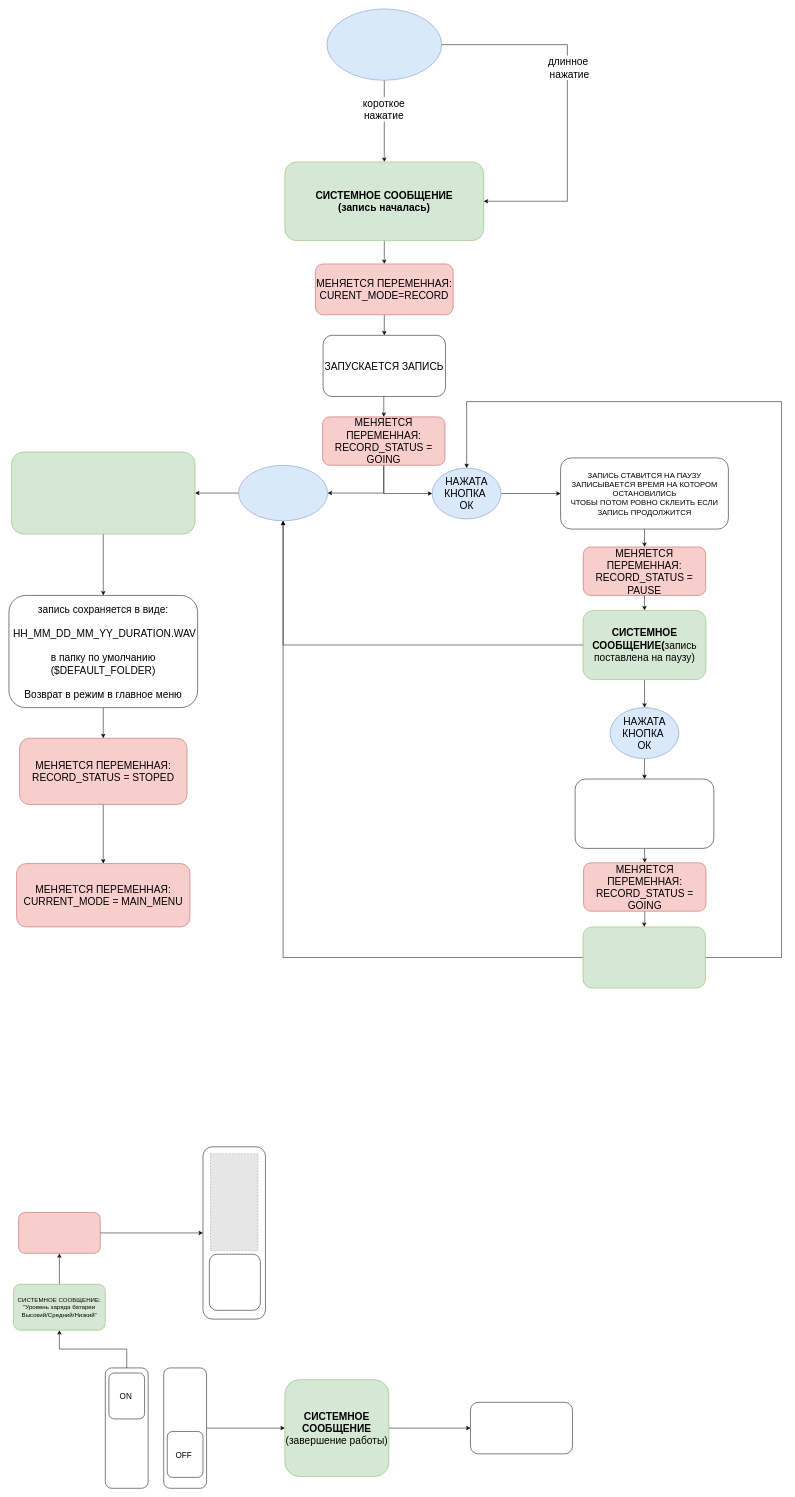
The diagram is 795 pixels wide and 1497 high, and some of its shapes have lost their labels. Grey dashed boxes stand in for pictures. Here are the shapes that lost their labels. From the top down, the centre of each, then its label:
point (384, 44): Rec
point (103, 493): СИСТЕМНОЕ СООБЩЕНИЕ: "запись закончена "
point (283, 493): нажата кнопка BACK
point (644, 813): ПРОДОЛЖАЕТСЯ ЗАПИСЬ СКЛЕИВАЕТСЯ С ТЕМ МЕСТОМ ГДЕ БЫЛА ПОСТАВЛЕНА НА ПАУЗУ
point (644, 957): СИСТЕМНОЕ СООБЩЕНИЕ(запись возобновляется)
point (59, 1232): ПЕРЕКЛЮЧАЕТСЯ ПЕРЕМЕННАЯ CURRENT_MODE = MAIN_MENU
point (234, 1282): пользовать попадает в главное меню
point (521, 1428): МЯГКОЕ ЗАВЕРШЕНИЕ РАБОТЫ СОХРАНЕНИЕ ВСЕХ ФАЙЛОВ
